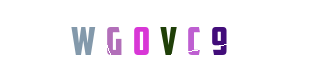9: (179, 0, 259, 80)
C: (128, 0, 208, 80)
G: (101, 0, 181, 80)
O: (108, 0, 188, 80)
V: (115, 0, 195, 80)
W: (59, 0, 139, 80)
